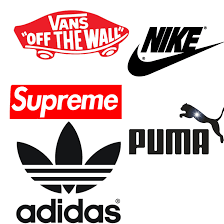adidas: (15, 120, 121, 223)
nike: (127, 41, 222, 77)
vans: (48, 11, 90, 32)
